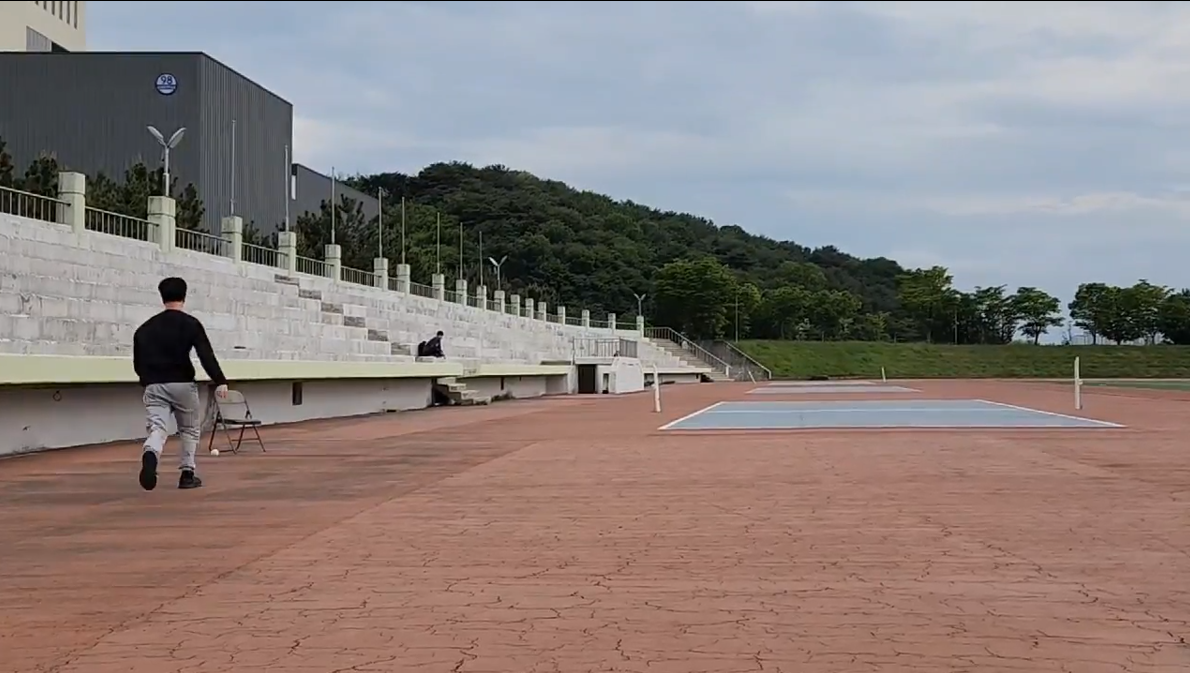ball: (209, 447, 221, 457)
